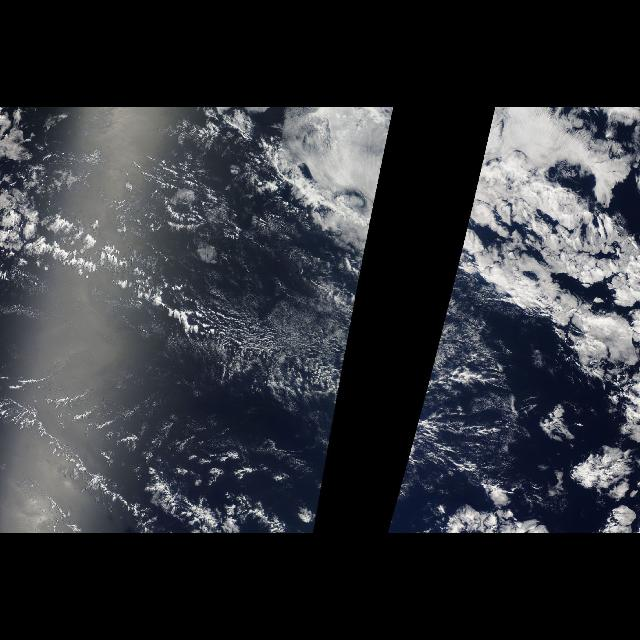Flower: (543, 283, 639, 533)
Sugar: (229, 272, 363, 434), (412, 290, 452, 434)
